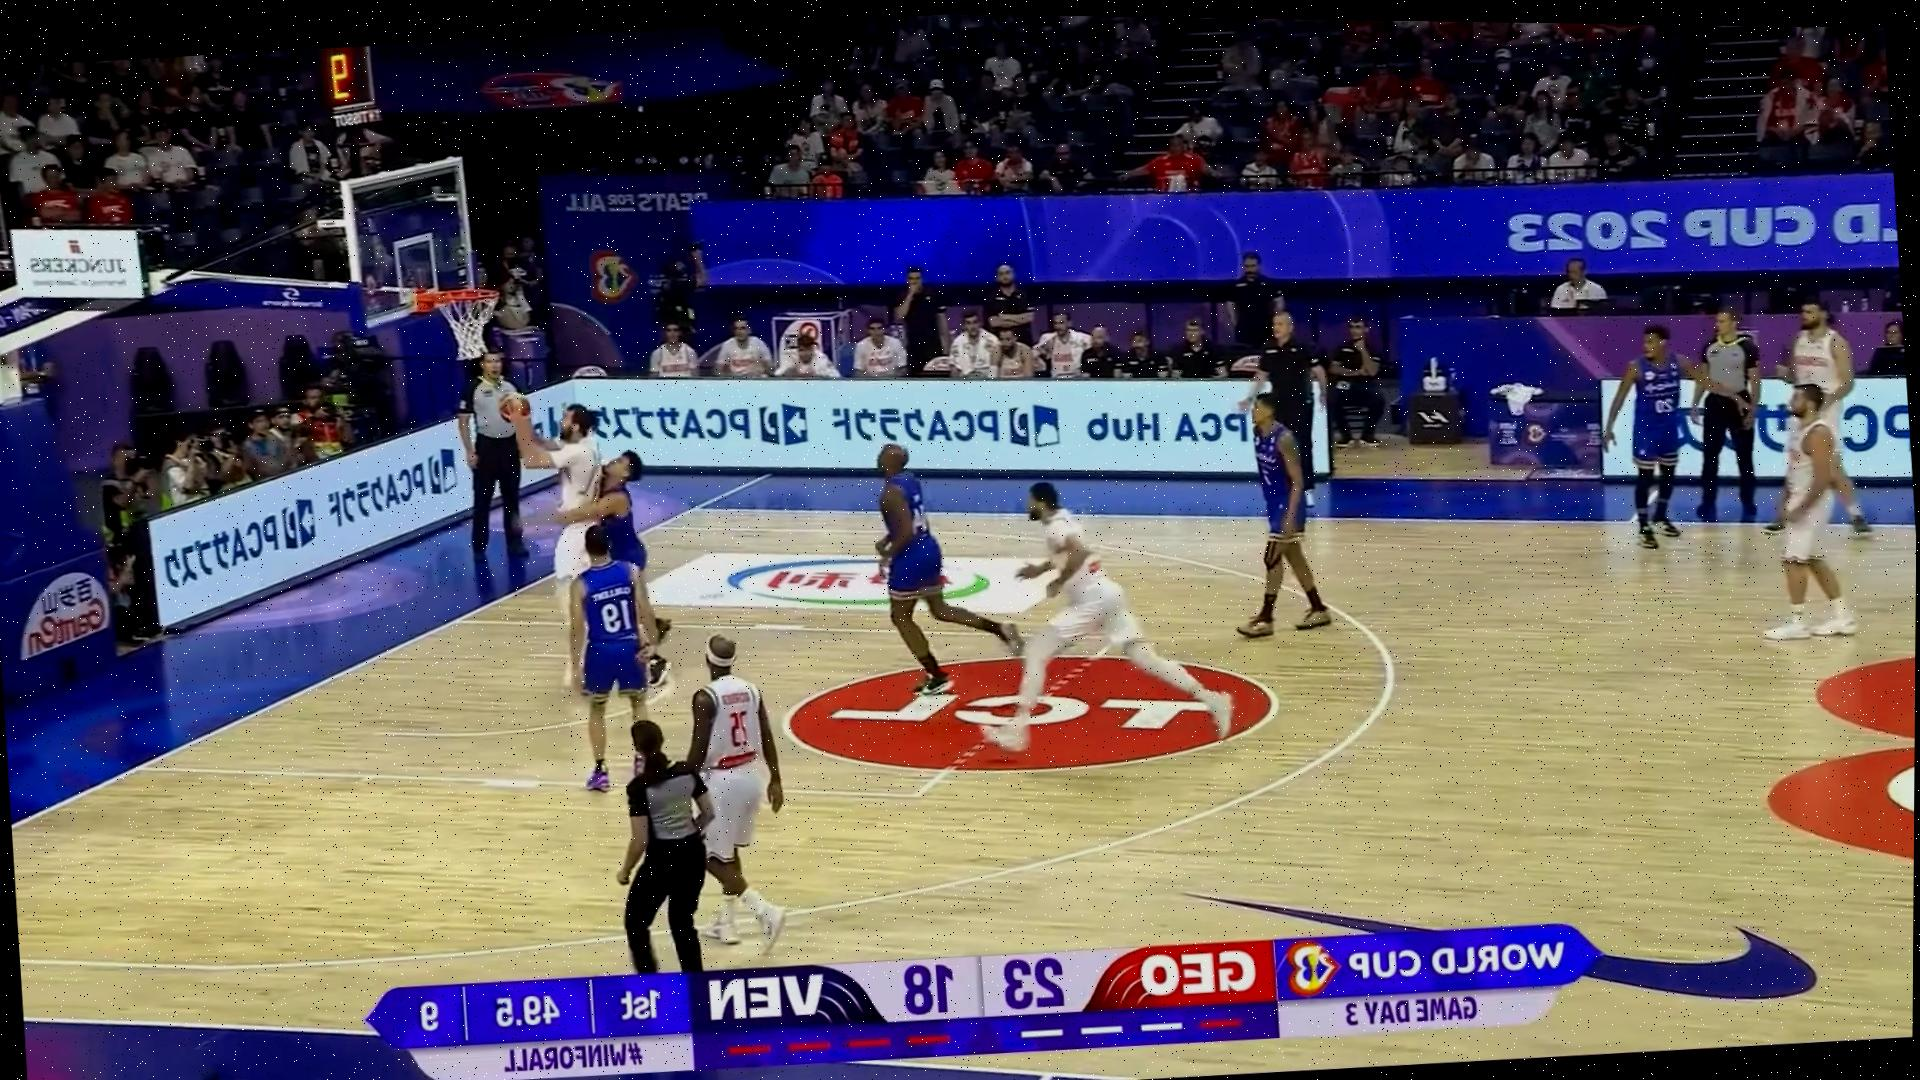foul: (516, 377, 714, 671)
